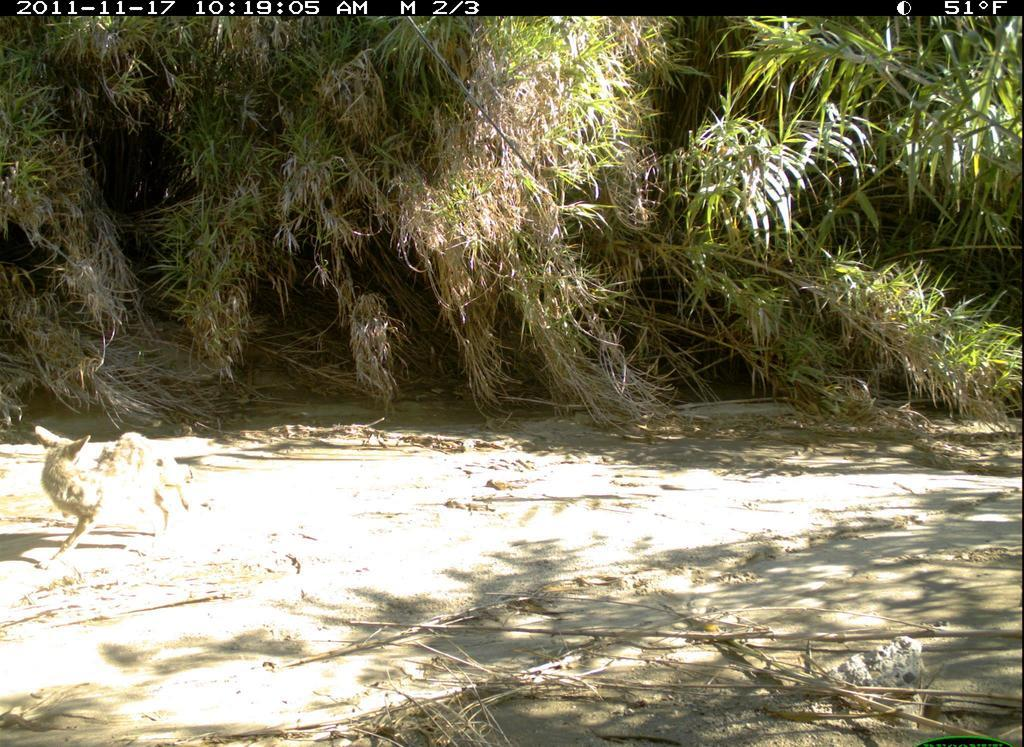coyote: (24, 419, 203, 569)
